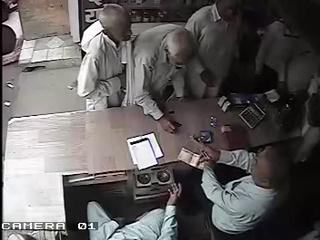Normal: (196, 104, 302, 240), (122, 23, 200, 134), (184, 0, 242, 98), (87, 184, 180, 240)
shoplifting: (76, 3, 133, 111)
